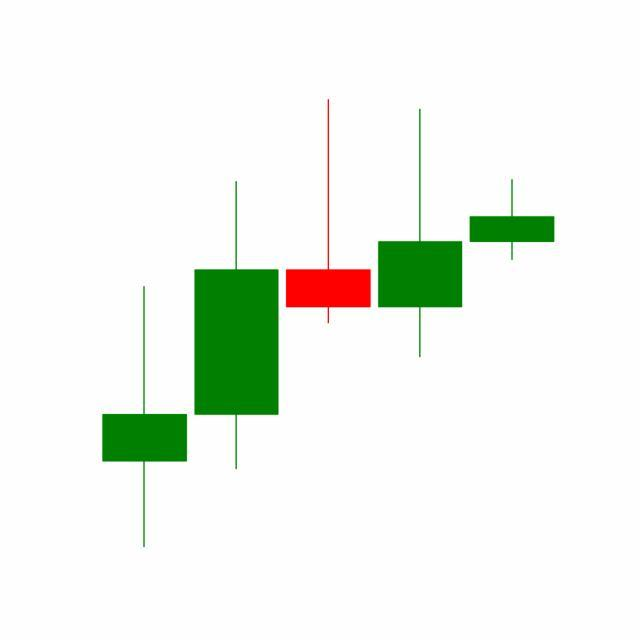Gravestone Doji: (466, 179, 559, 262)
